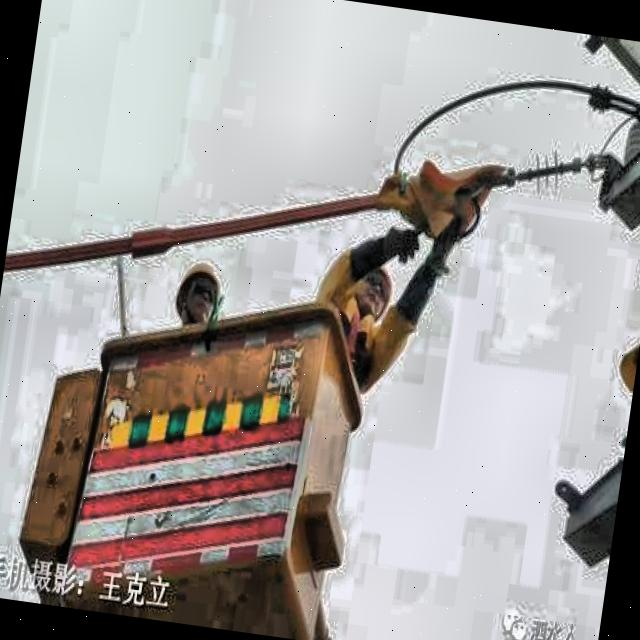helmet: (166, 255, 228, 350), (341, 256, 399, 322)
